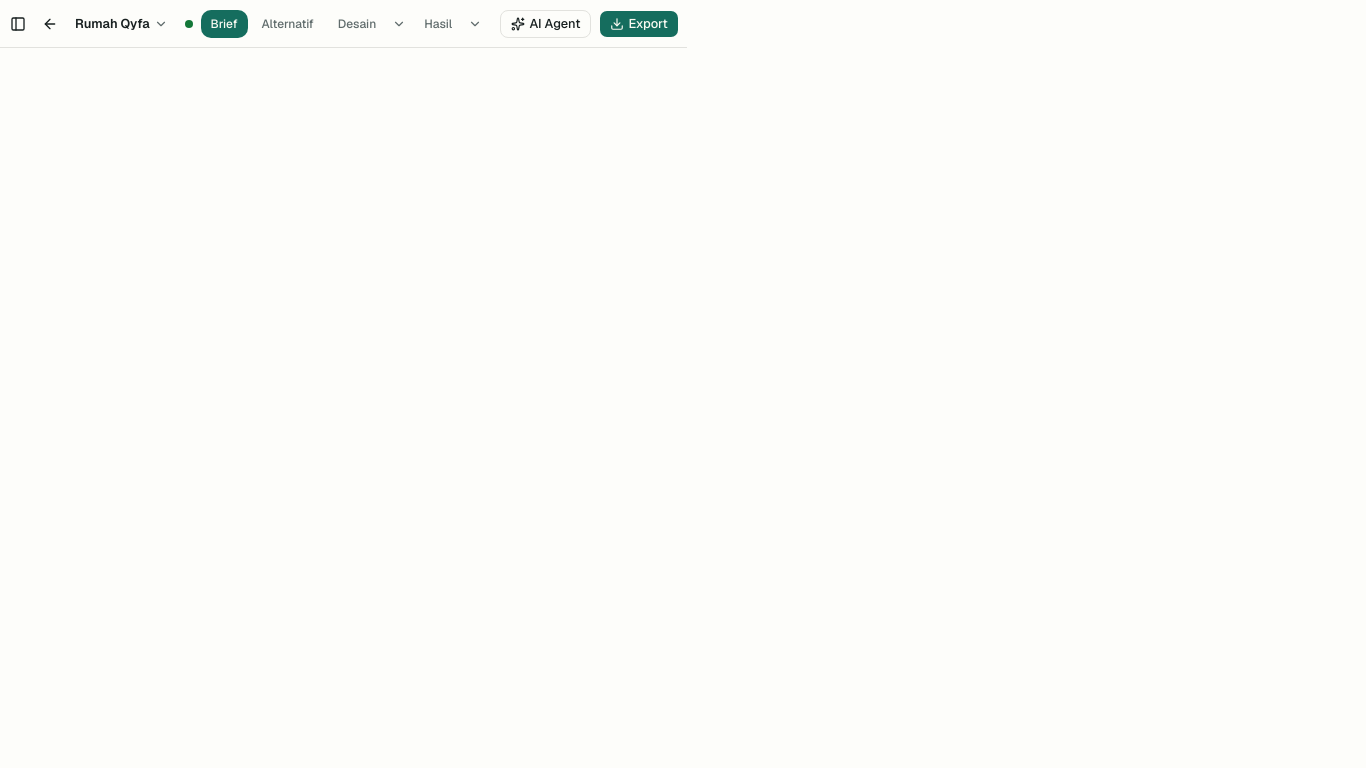
ProjectBar — name dropdown (rename/bagikan/⌘K) › auto-creates a link when the dialog opens and none exists yet
Press the mouse on the button with test id "project-name-menu-trigger" at {"x": 121, "y": 24}, box [68, 10, 175, 38]
Click the button with test id "project-name-menu-trigger" at {"x": 121, "y": 24}, box [68, 10, 175, 38]
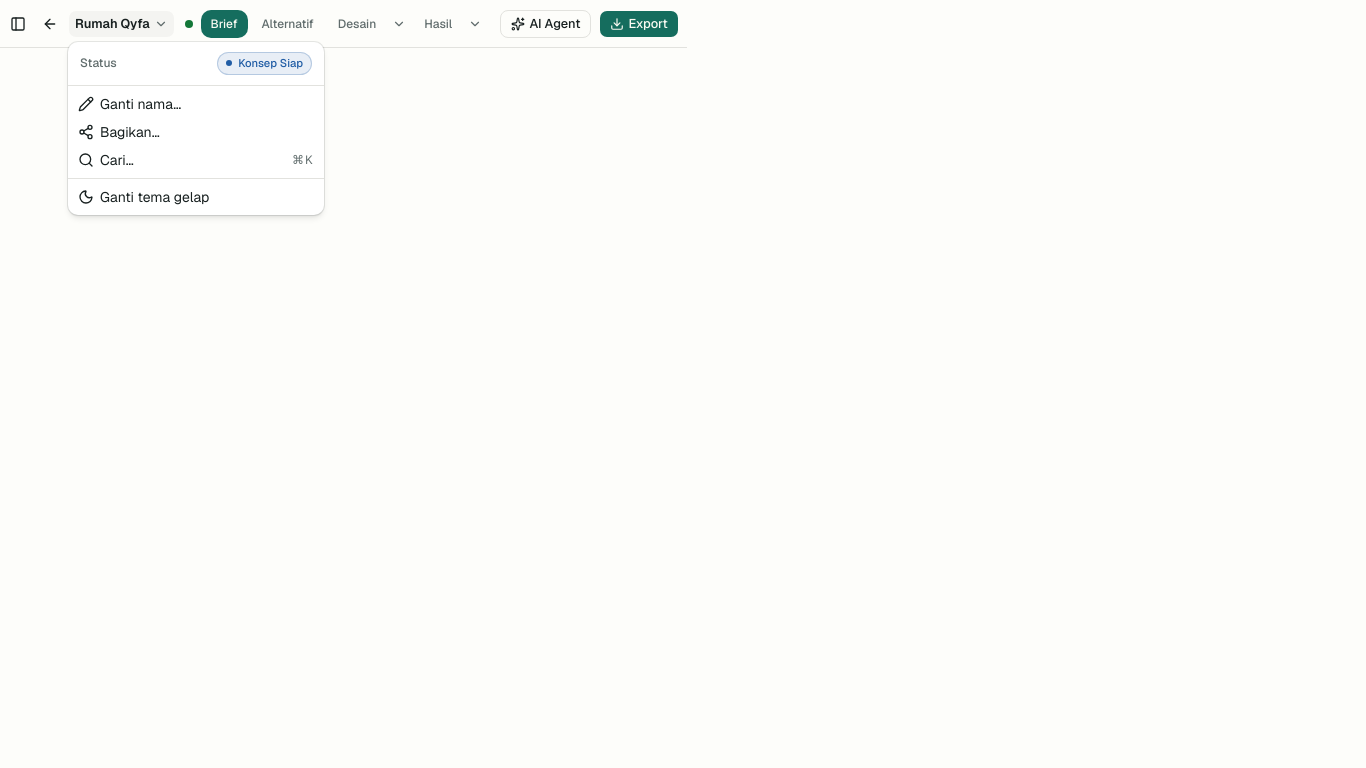
Click the menu item "Bagikan…" at {"x": 119, "y": 132}, box [78, 123, 160, 141]
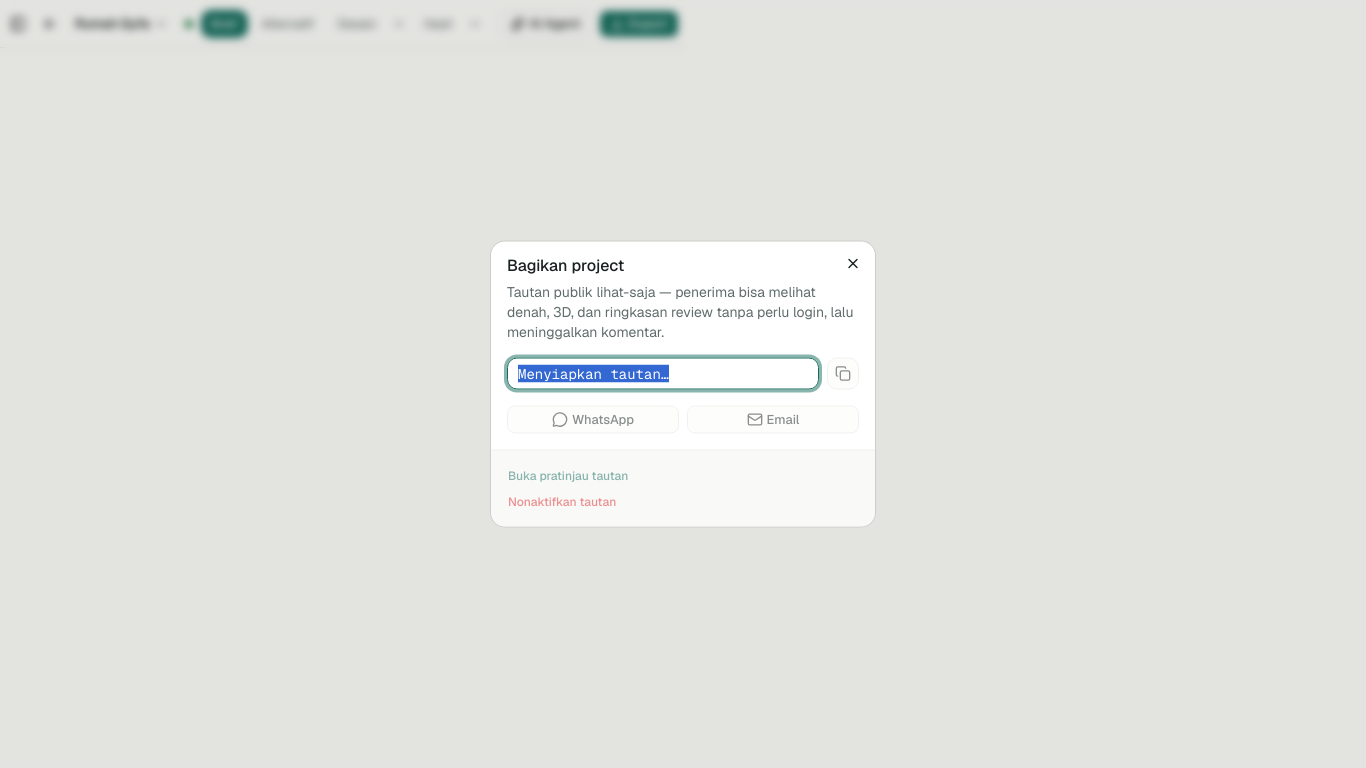
Result: the heading "Bagikan project" is shown at [507, 254, 624, 276]
